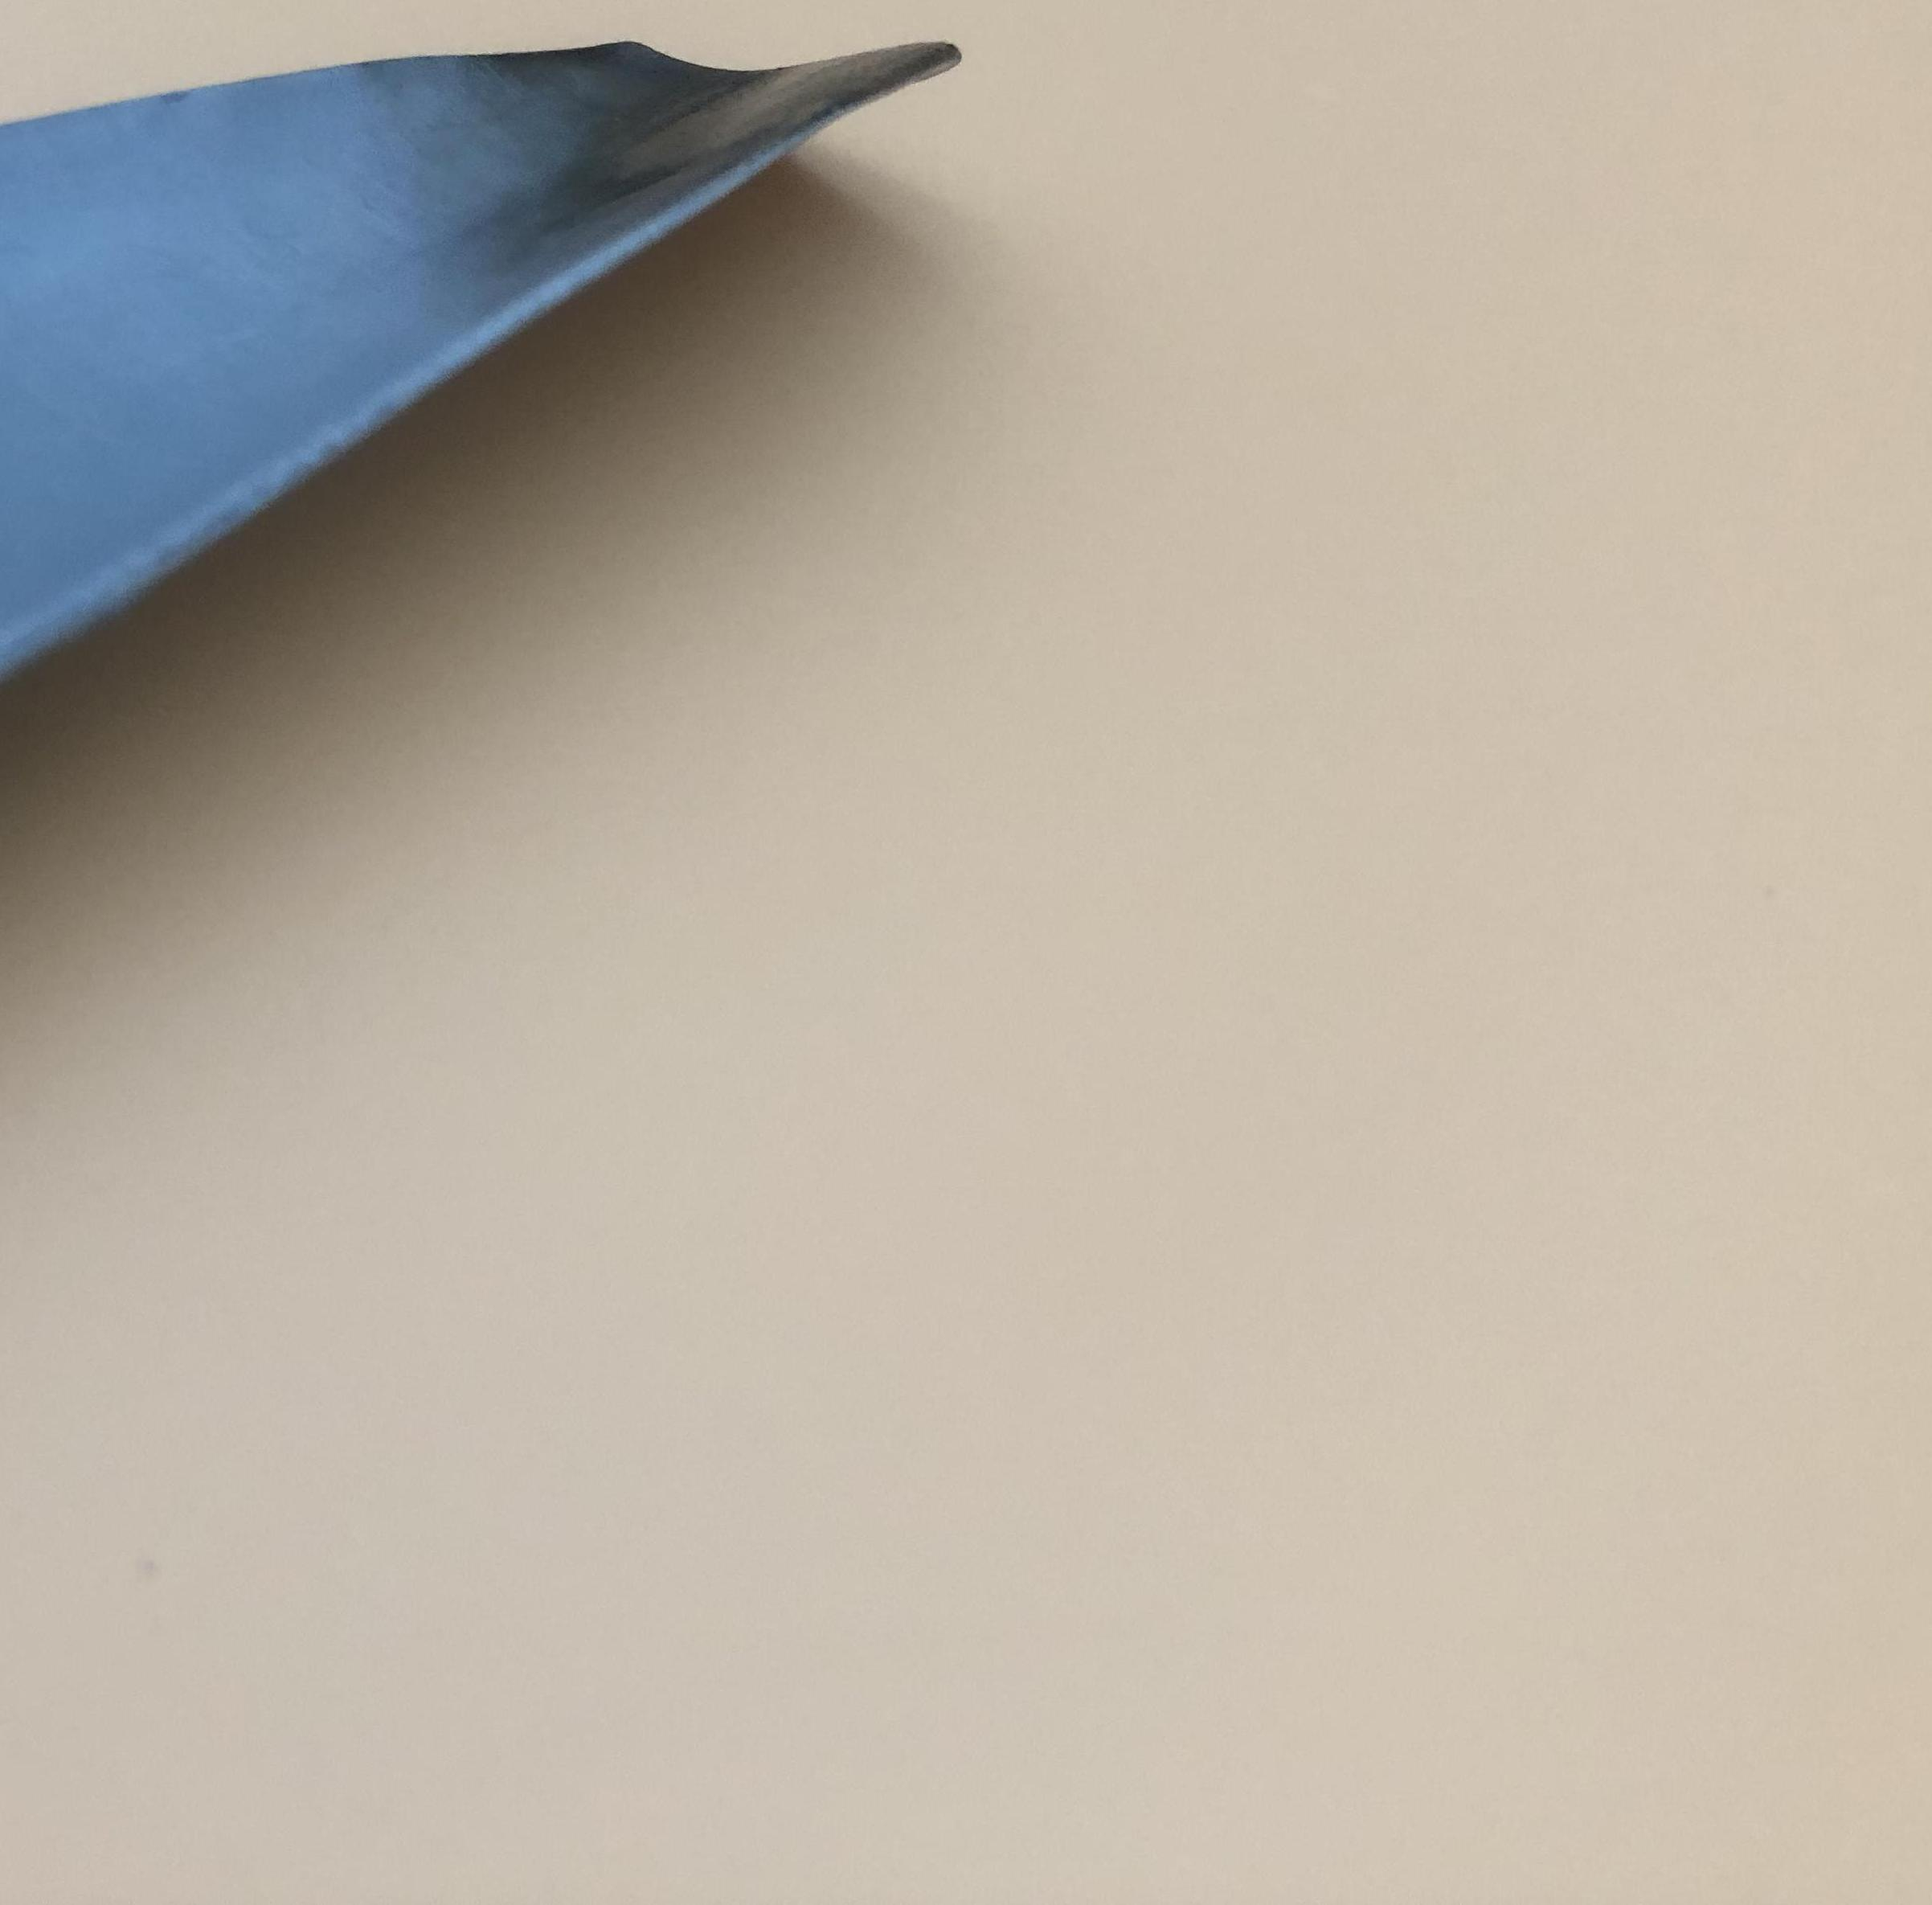ablation: (502, 44, 903, 190)
